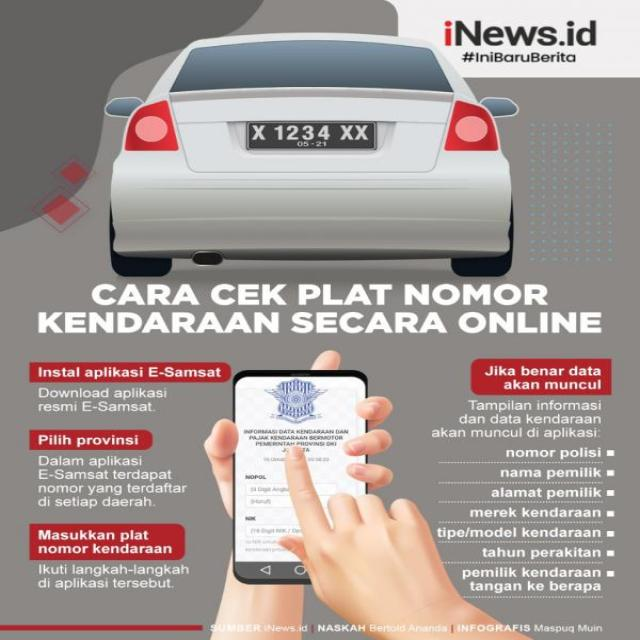lisence-plate: (232, 113, 392, 167)
